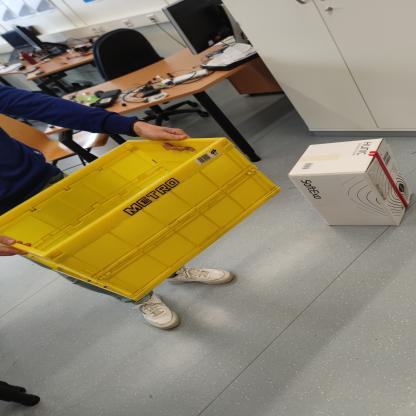-: (2, 129, 280, 302), (281, 136, 416, 244)
